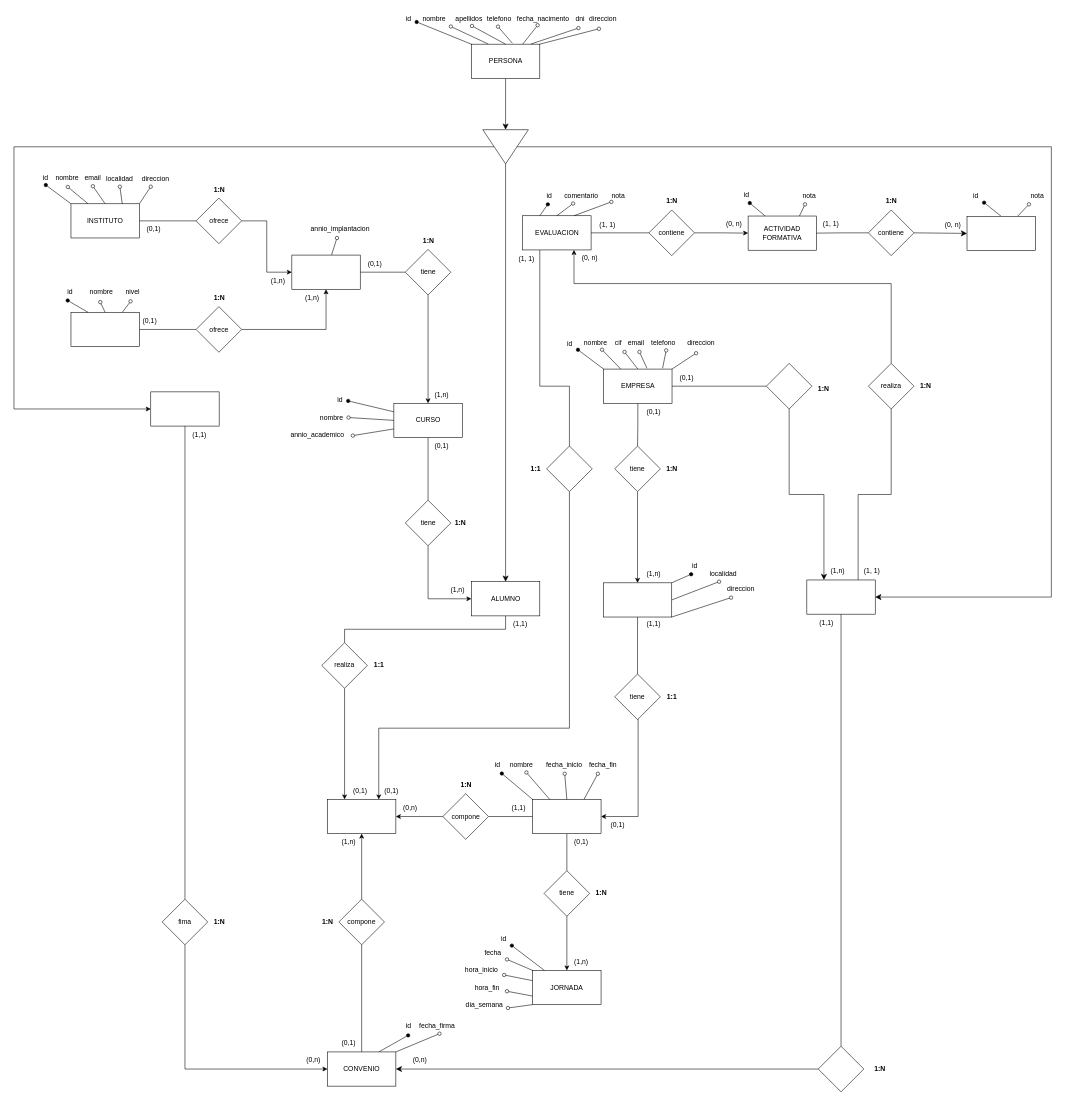
The diagram is 1067 pixels wide and 1102 high, and some of its shapes have lost their labels. Here are the shapes that lost their labels. From the top down, the box of each, then its label:
(966, 216, 1035, 251): COMPETENCIA
(291, 255, 360, 289): OFERTA FORMATIVA
(70, 312, 139, 347): CICLO FORMATIVO
(766, 363, 812, 409): pertenece
(150, 391, 219, 426): TUTOR DOCENTE
(546, 445, 592, 492): recibe
(603, 582, 672, 617): SEDE
(806, 579, 875, 614): TUTOR LABORAL
(327, 799, 396, 834): PRACTICA
(532, 799, 601, 834): CALENDARIO
(818, 1046, 864, 1092): firma
